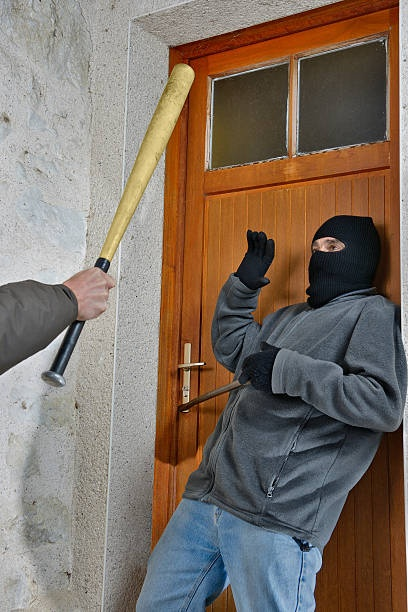bita: (46, 52, 201, 387)
